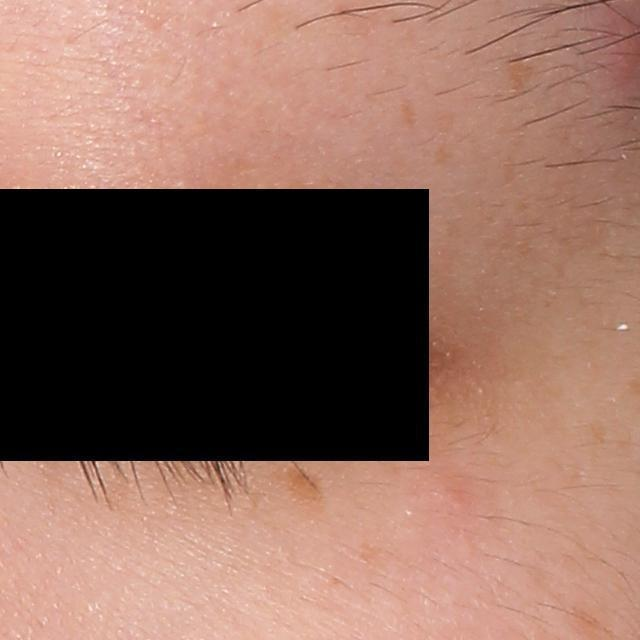melasma: (283, 464, 326, 505), (504, 55, 538, 98), (398, 94, 416, 130), (589, 418, 610, 444)
